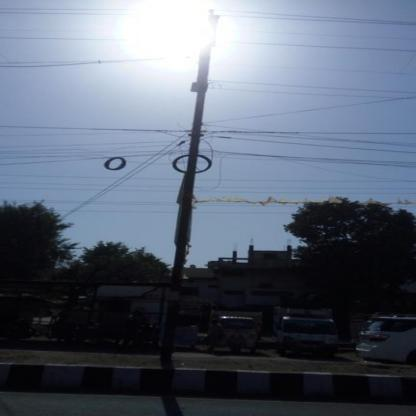Electrical Pole: (132, 8, 237, 363)
